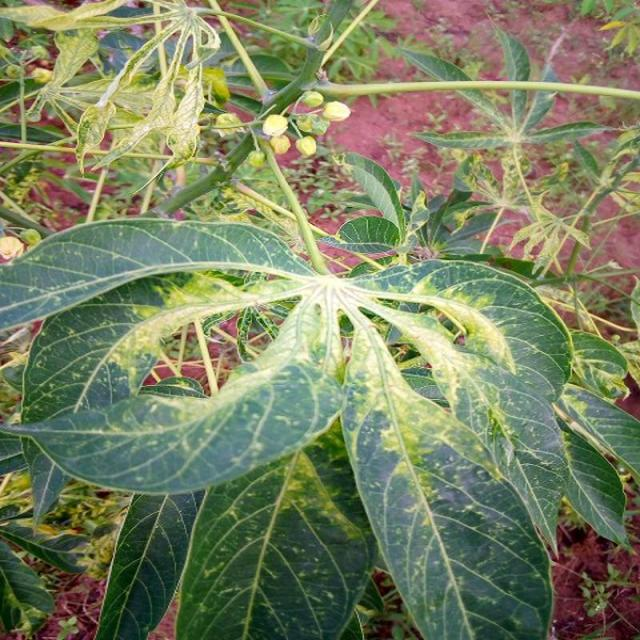cassava leaf: (6, 284, 345, 522), (340, 319, 554, 638)
